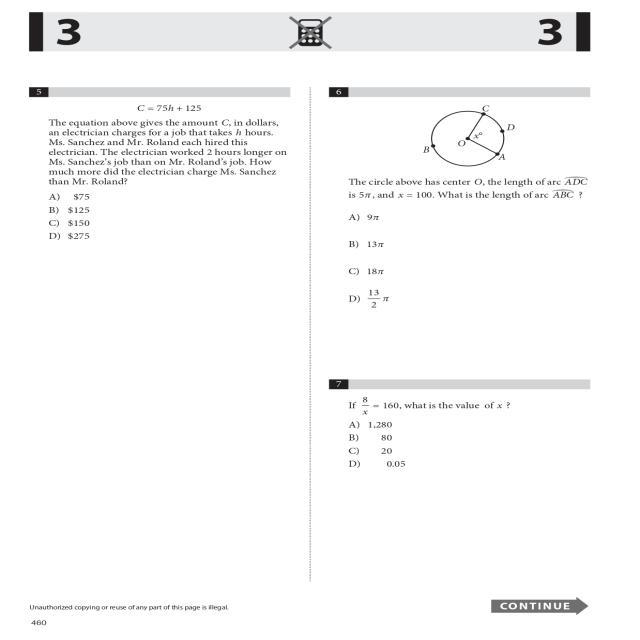Answer_Block: (318, 418, 598, 580), (318, 208, 598, 318), (24, 188, 304, 246)
Question_Answer_Block: (318, 82, 598, 318), (318, 380, 598, 580), (24, 84, 304, 246)
Question_Block: (318, 81, 598, 208), (24, 84, 304, 185), (318, 380, 598, 420)
Question_Paper_Area: (318, 82, 598, 580), (24, 85, 304, 582)
